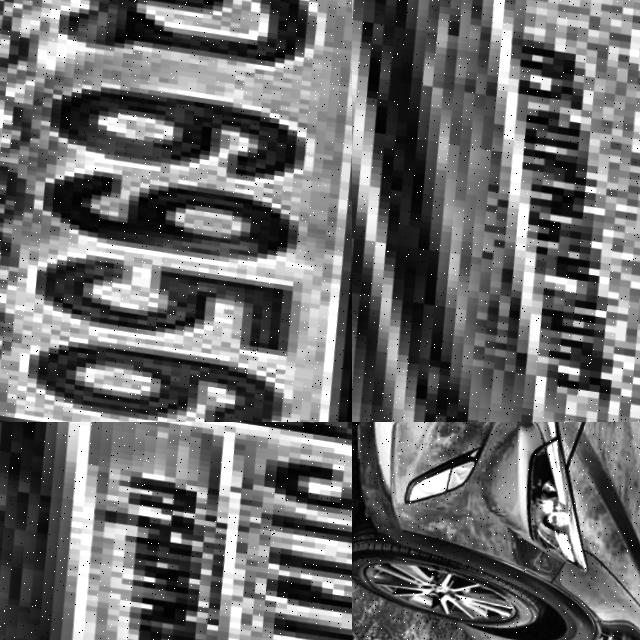license-plate: (0, 0, 352, 422), (352, 0, 640, 422), (0, 422, 352, 640)
